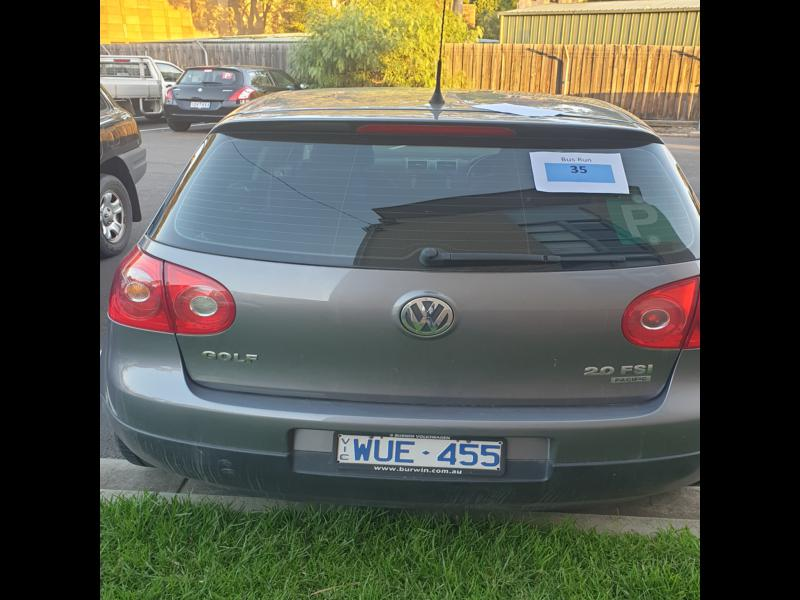BusRun: (543, 161, 616, 185)
PlateNo: (333, 430, 504, 476)
